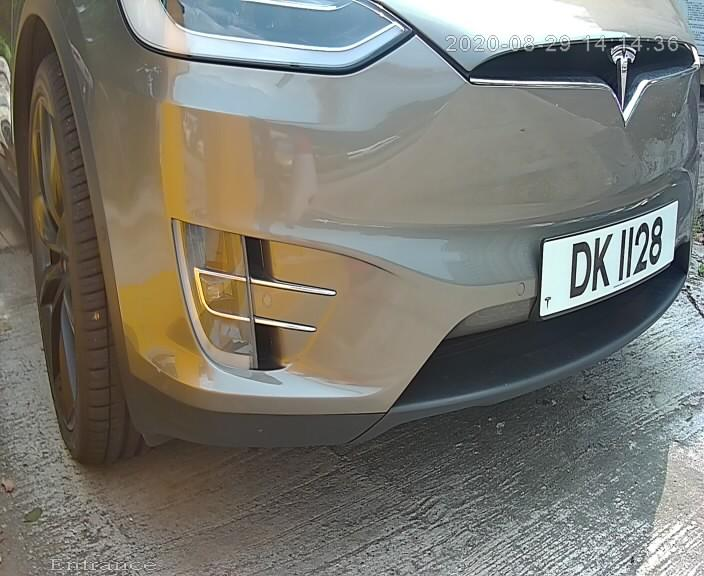License Plate: (529, 201, 683, 322)
